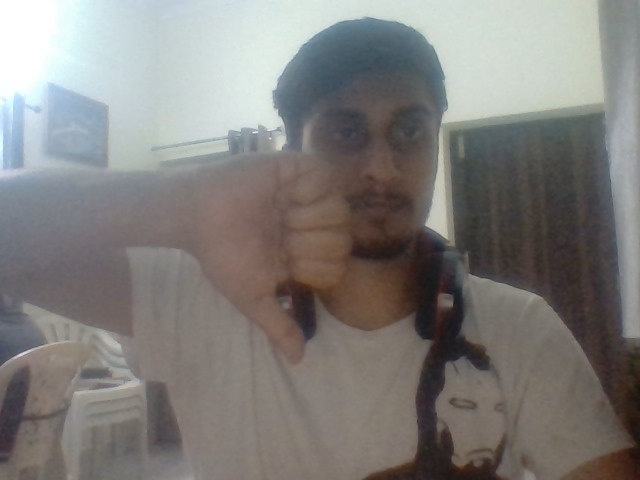ThumbsDown: (200, 151, 354, 364)
